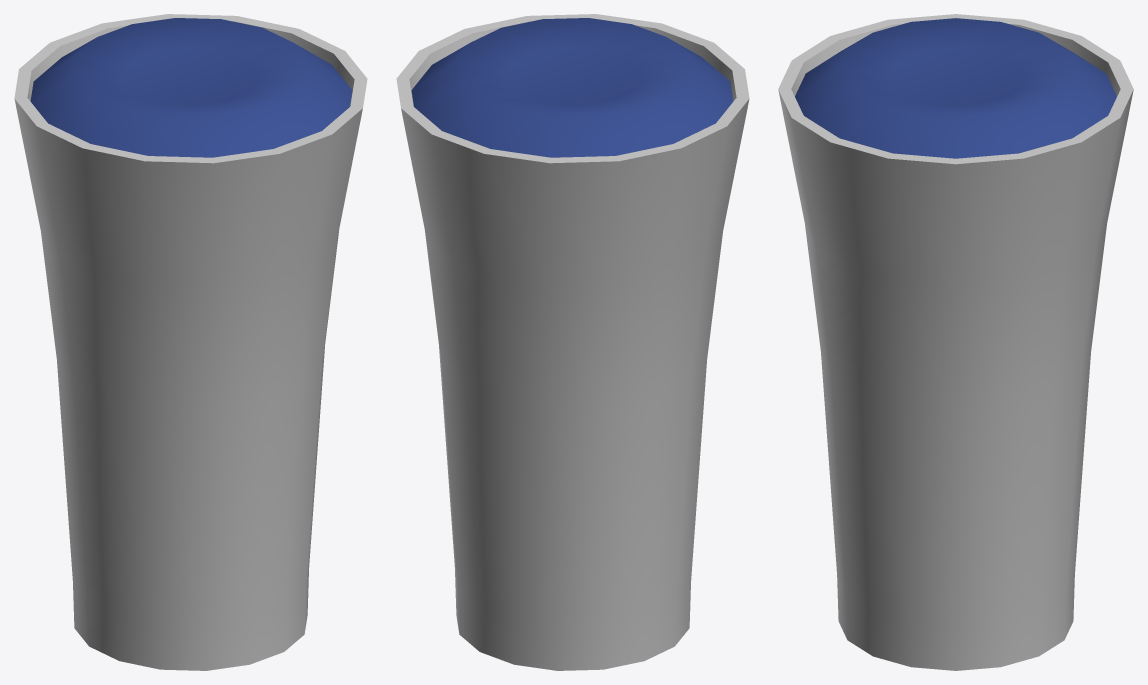
The model's file is CoffeeGlass.fbx.
The picture shows the model from 3 angles, left to right: view 1: azimuth 30°, elevation 25°; view 2: azimuth 150°, elevation 25°; view 3: azimuth 270°, elevation 25°; orthographic projection.
Parts seen in each view (by area): view 1: CoffeeGlass; view 2: CoffeeGlass; view 3: CoffeeGlass.
Boxes of the visible parts, x1,y1,x2,y2 form: CoffeeGlass: (14,14,367,670); CoffeeGlass: (396,14,749,670); CoffeeGlass: (778,14,1133,670).
Size of the model in its own units: 0.0727 by 0.1248 by 0.0727.
